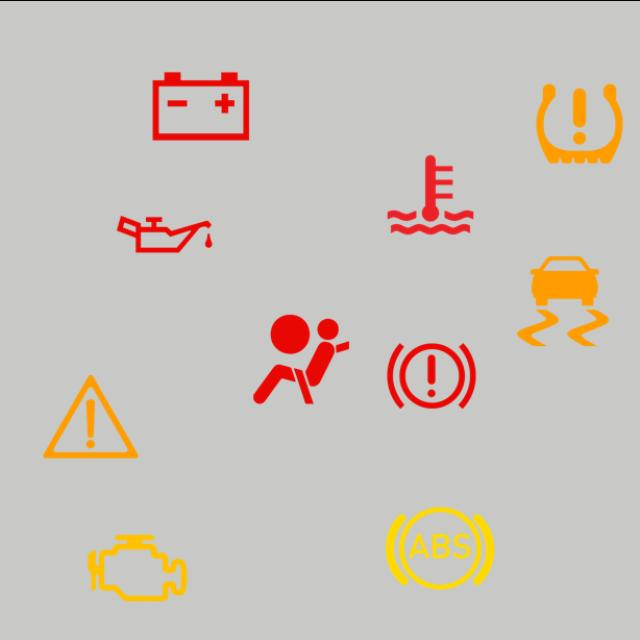Anti Lock Braking System: (380, 488, 500, 606)
Braking System Issue: (372, 316, 491, 434)
Charging System Issue: (142, 46, 260, 165)
Check Engine: (78, 508, 197, 626)
Electronic Stability Problem -ESP-: (503, 240, 622, 360)
Engine Overheating Warning Light: (371, 134, 490, 253)
Low Engine Oil Warning Light: (105, 174, 224, 293)
Low Tire Pressure Warning Light: (520, 64, 639, 182)
Master warning light: (31, 356, 150, 476)
SRS-Airbag: (242, 299, 361, 418)
